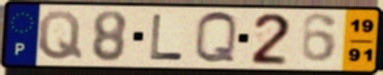2: (250, 12, 294, 67)
6: (300, 11, 341, 69)
8: (91, 9, 129, 64)
L: (147, 13, 185, 63)
Q: (192, 9, 240, 66), (37, 9, 85, 62)
